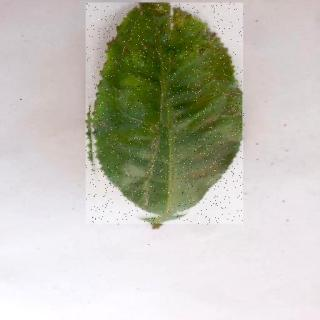Algal Leaf: (87, 4, 245, 226)
